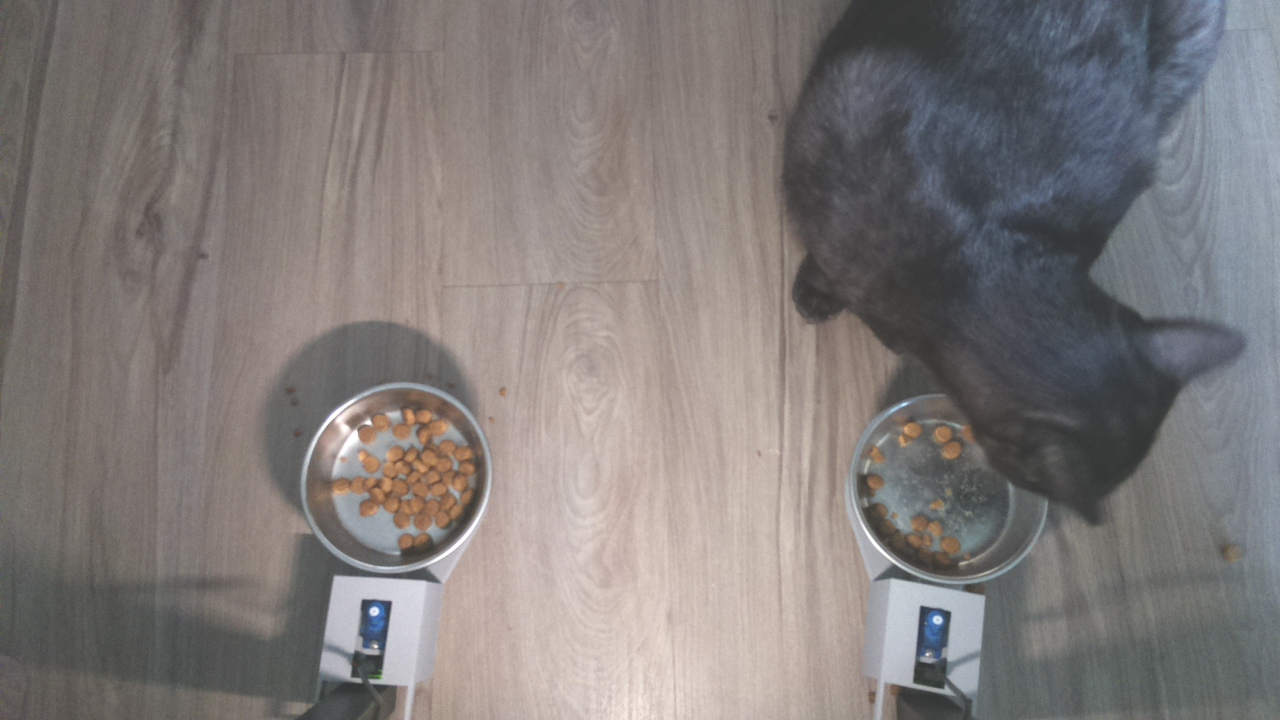open_bowl: (290, 372, 500, 585), (845, 413, 1057, 586)
saki: (923, 254, 1248, 539)
